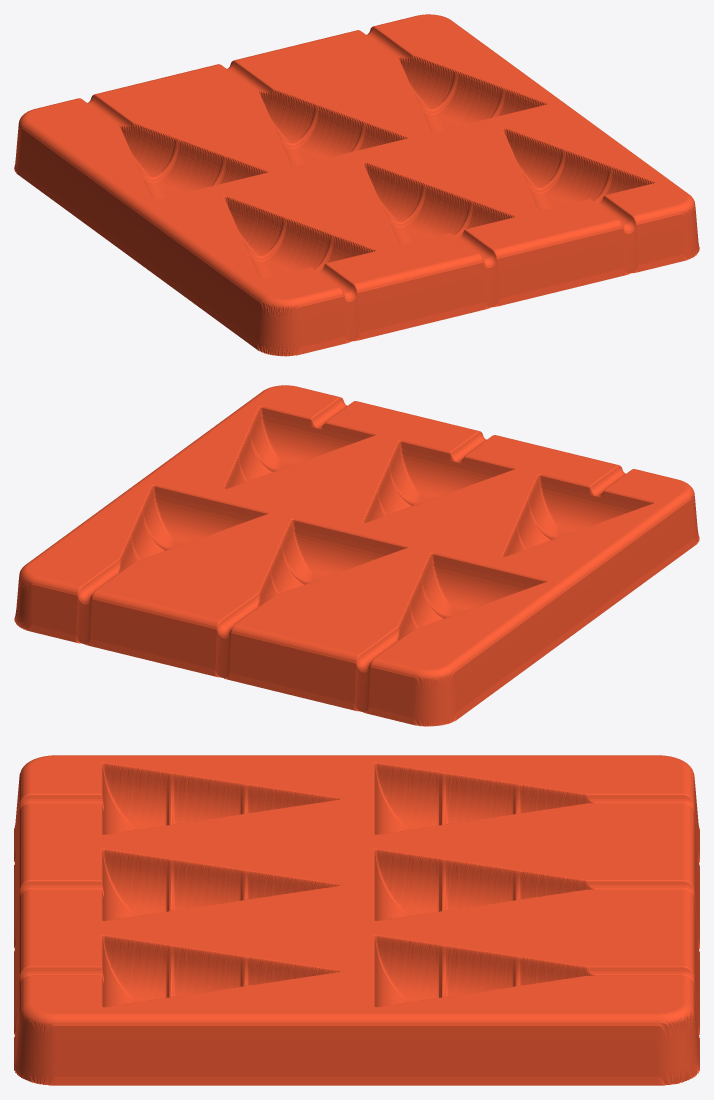
File: mold.glb
3 views of the same model, one above another, from view 1: azimuth 30°, elevation 25°; view 2: azimuth 150°, elevation 25°; view 3: azimuth 270°, elevation 25° (orthographic). The views are drawn at different scales.
Visible parts, largest first — view 1: geometry_0; view 2: geometry_0; view 3: geometry_0.
Boxes of the visible parts, x1,y1,x2,y2 form: geometry_0: [14, 14, 699, 356]; geometry_0: [14, 385, 699, 726]; geometry_0: [14, 755, 699, 1085].
Size of the model in its own units: 0.1382 by 0.0155 by 0.1477.
